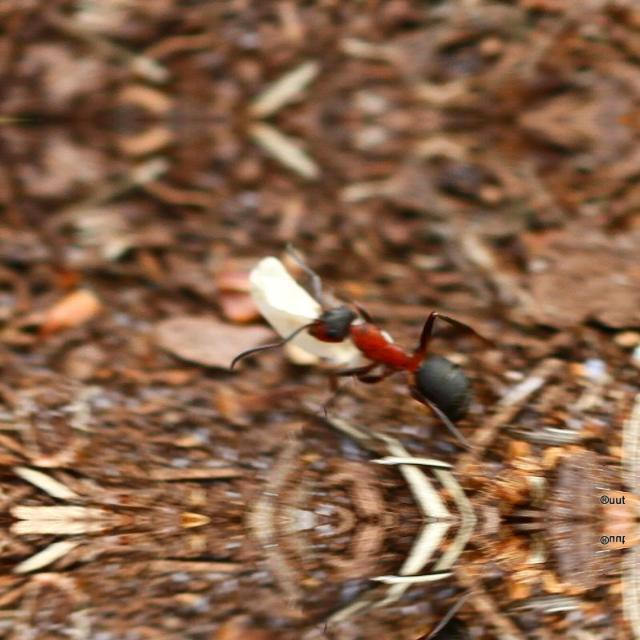Formica: (266, 288, 492, 422)
